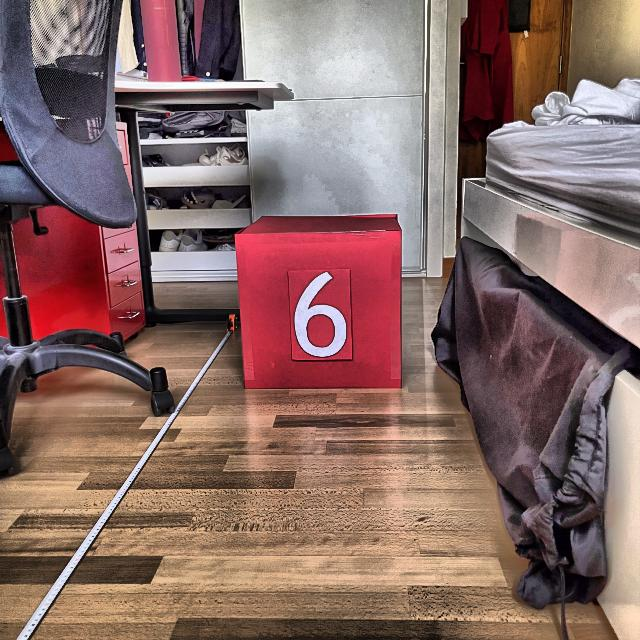red box: (232, 213, 405, 392)
six: (290, 272, 350, 359)
